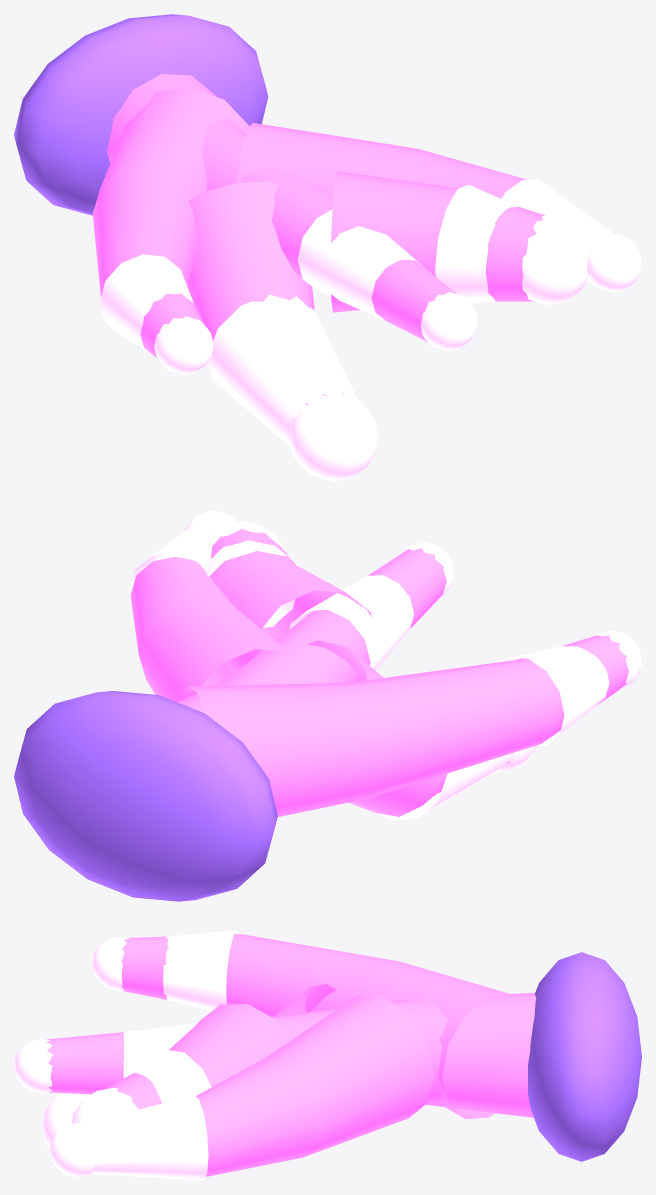
File: SpalakhCoralPinkNeon_v094.glb
The picture shows the model from 3 angles, top to bottom: view 1: azimuth 30°, elevation 25°; view 2: azimuth 150°, elevation 25°; view 3: azimuth 270°, elevation 25°; orthographic projection. The views are drawn at different scales.
Size of the model in its own units: 0.6984 by 0.3579 by 0.8853.
